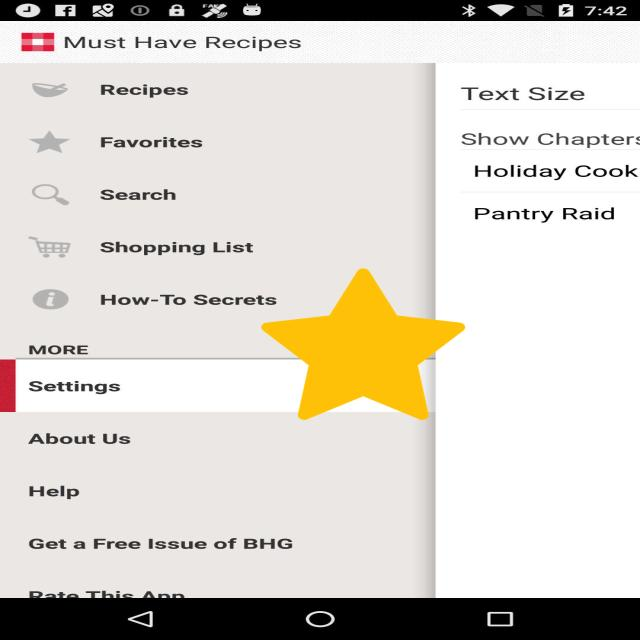forced continuity: (262, 268, 466, 420)
